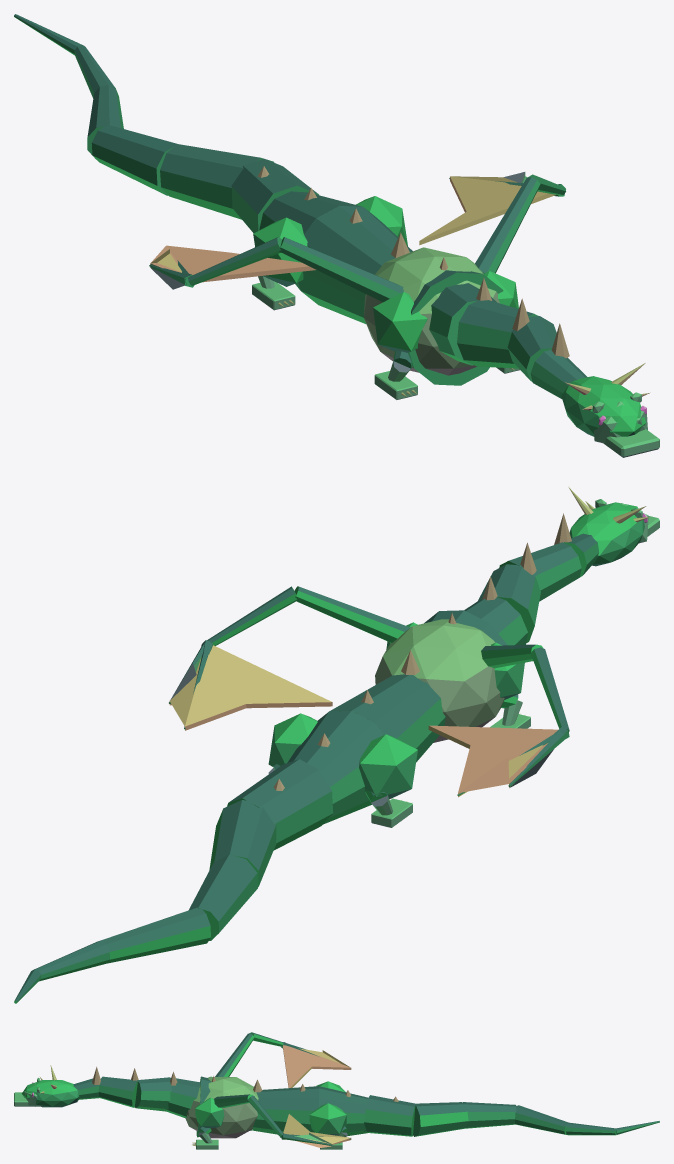
Rendered from creature_dragon_rest_v01.glb.
3 renders of one model, top to bottom at view 1: azimuth 30°, elevation 25°; view 2: azimuth 150°, elevation 25°; view 3: azimuth 270°, elevation 25°, orthographic. The views are drawn at different scales.
Visible parts, largest first — view 1: GEO_creature_dragon_rest_v01; view 2: GEO_creature_dragon_rest_v01; view 3: GEO_creature_dragon_rest_v01.
Part boxes in pixels (box(x1,y1,x2,y2)): GEO_creature_dragon_rest_v01: box(14, 14, 659, 457); GEO_creature_dragon_rest_v01: box(14, 486, 659, 1003); GEO_creature_dragon_rest_v01: box(14, 1032, 659, 1149).
Size of the model in its own units: 13.79 by 5.08 by 39.99.
